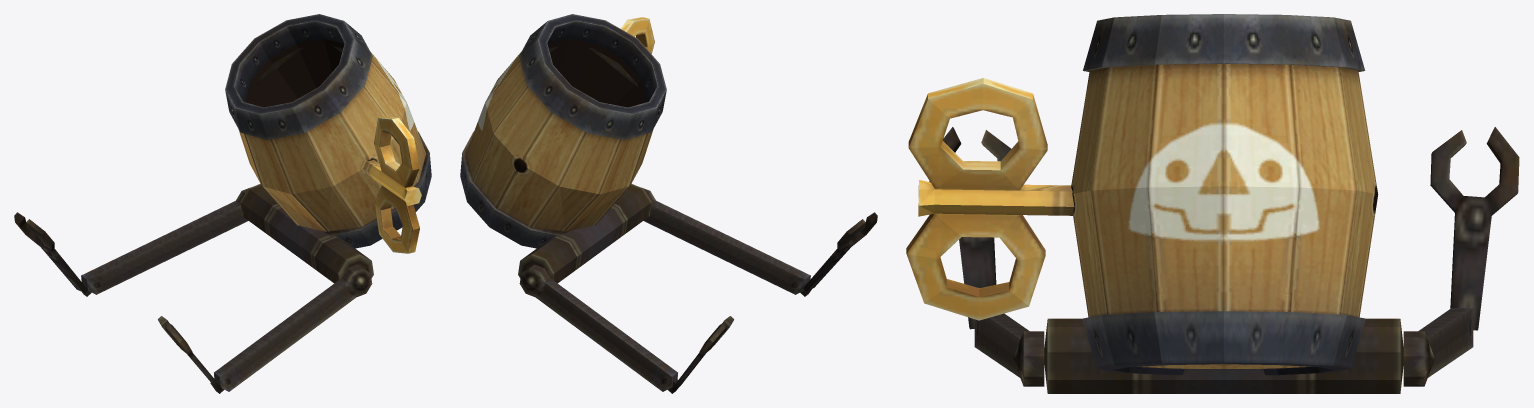
File: Mole_barrelCannon.obj
3 views of the same model, side by side, from view 1: azimuth 30°, elevation 25°; view 2: azimuth 150°, elevation 25°; view 3: azimuth 270°, elevation 25° (orthographic). The views are drawn at different scales.
Parts seen in each view (by area): view 1: Mole_barrelCannon_tri; view 2: Mole_barrelCannon_tri; view 3: Mole_barrelCannon_tri.
Boxes of the visible parts, <box> form: Mole_barrelCannon_tri: <box>14,14,431,393</box>; Mole_barrelCannon_tri: <box>460,14,877,393</box>; Mole_barrelCannon_tri: <box>906,14,1519,393</box>.
Bounding box in the file's own units: 0.8604 × 0.6836 × 0.7651.
1 material, 1 textured.
